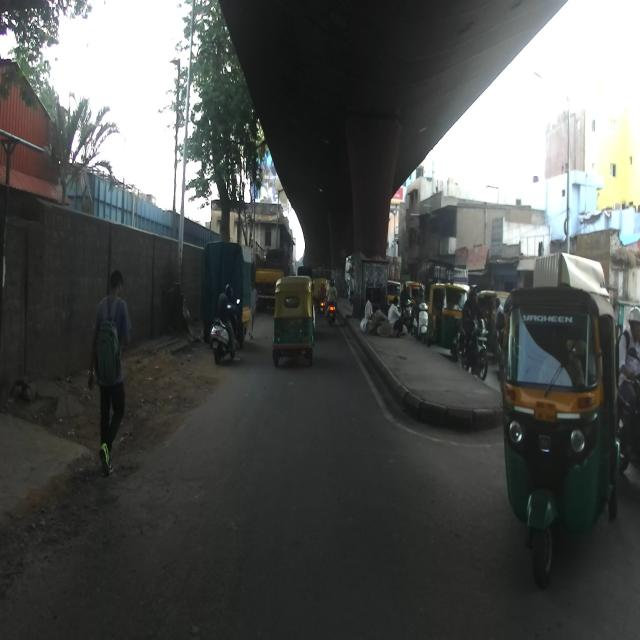autorickshaw: (496, 286, 618, 590), (272, 274, 314, 368), (423, 282, 470, 362), (474, 290, 512, 361), (402, 281, 425, 318), (313, 277, 329, 312)
motorcycle: (456, 312, 488, 381)
scooter: (209, 298, 240, 366), (410, 302, 429, 344), (400, 296, 412, 333)
